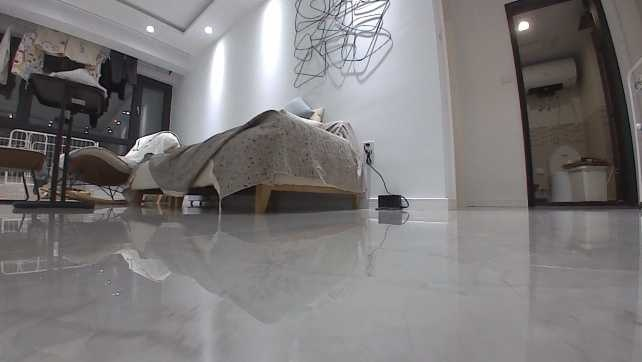charger: (373, 193, 402, 211)
door_sill: (531, 197, 638, 210)
metal_chair_foot: (12, 185, 95, 212)
sofa: (127, 95, 368, 213)
toilet: (549, 142, 581, 201)
trash_can: (570, 157, 610, 201)
wire: (362, 140, 410, 208)
